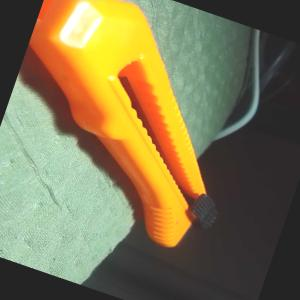estilete: (0, 0, 275, 259)
